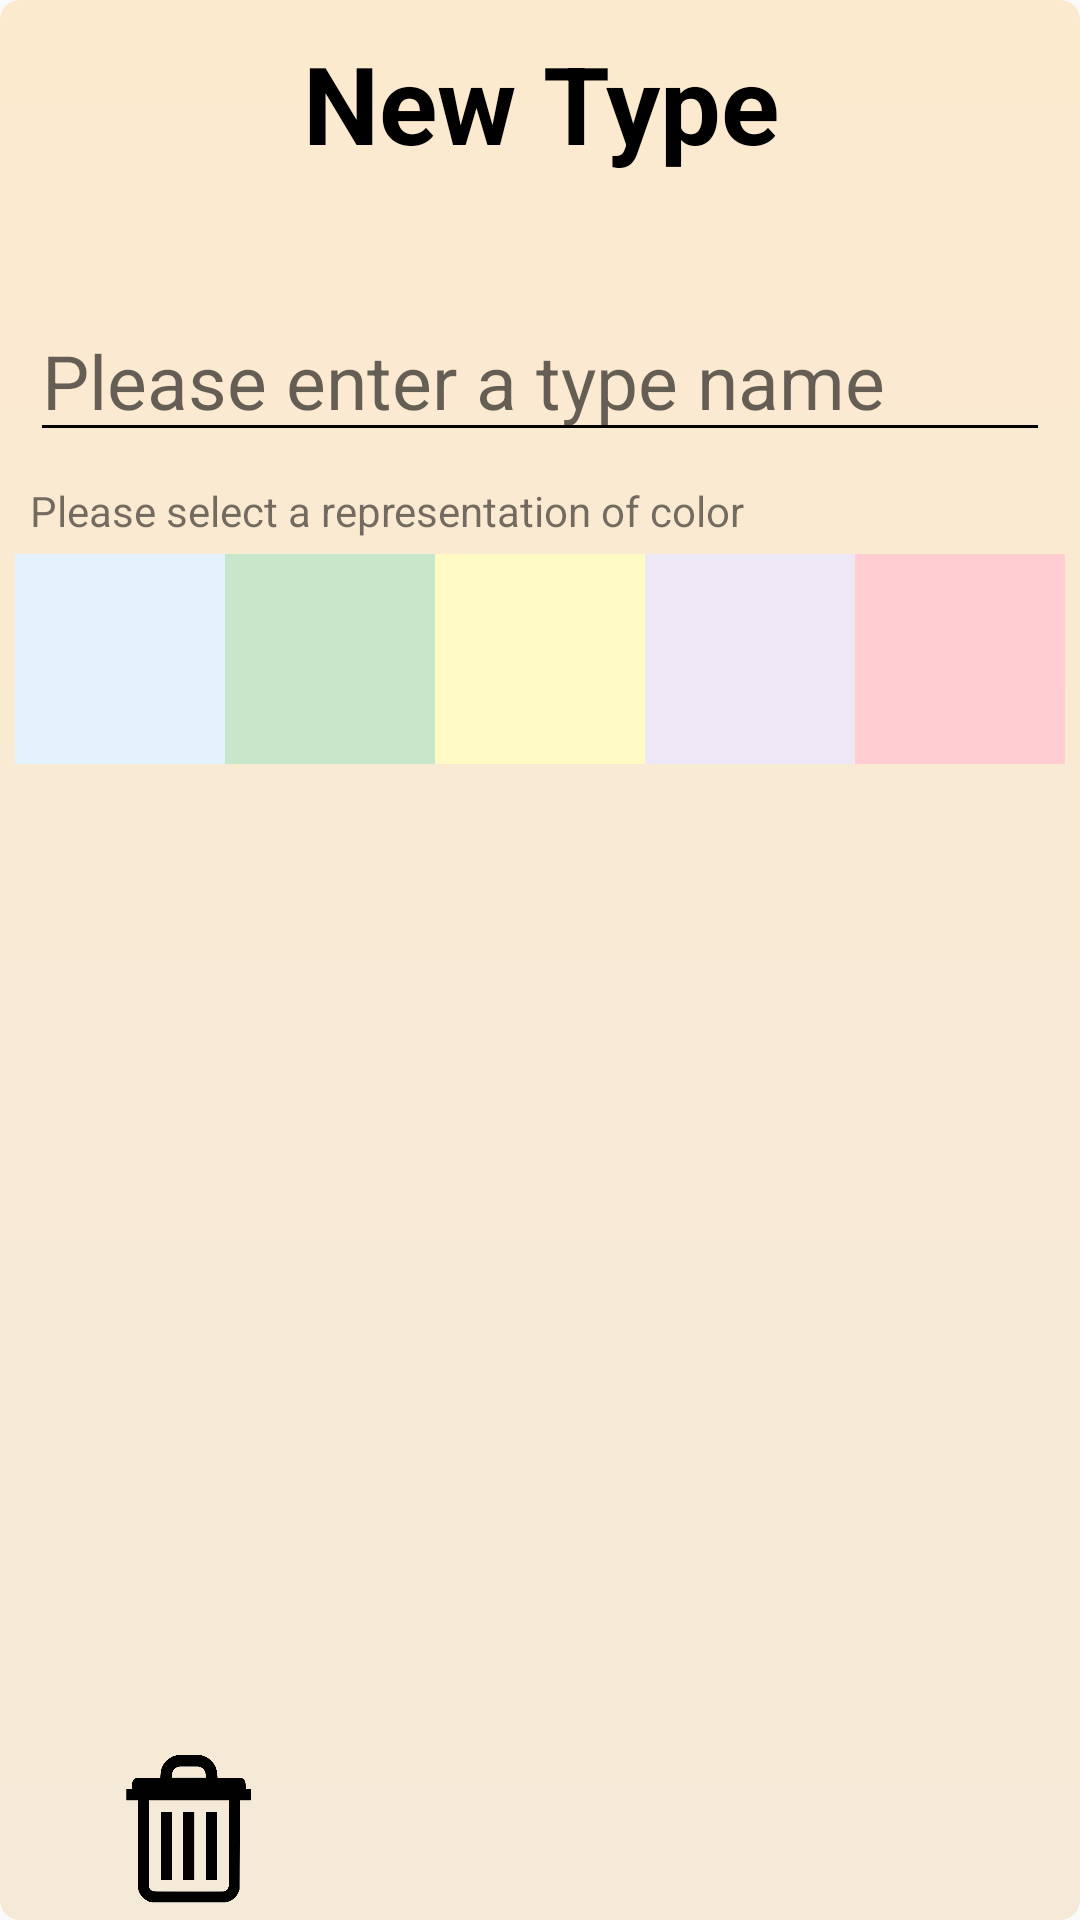

Where to tap for icons on this 1080px×1920px app screen, as (x=x, y=y):
delete: (x=188, y=1829)
